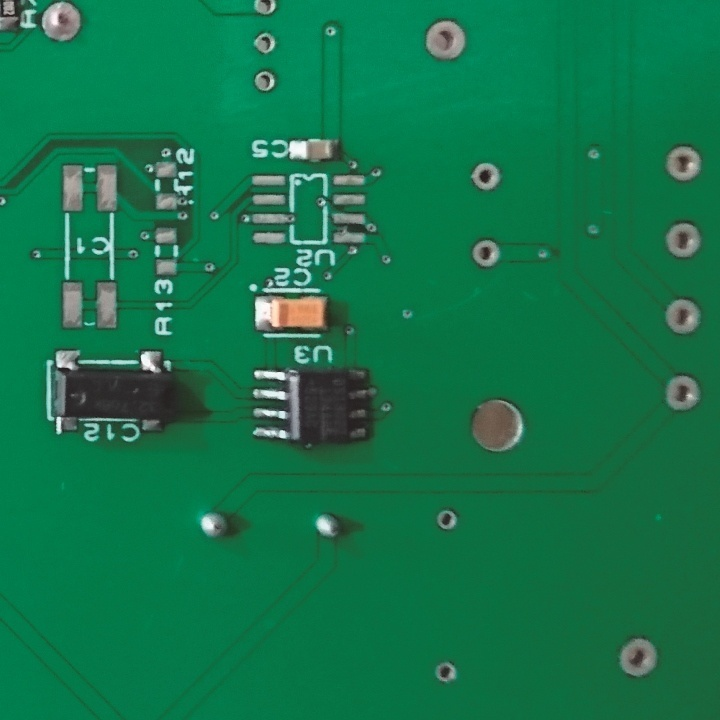F: (424, 15, 473, 70), (37, 1, 84, 48), (613, 638, 662, 682), (660, 373, 703, 414), (660, 142, 704, 182), (664, 297, 705, 335), (663, 220, 702, 259), (467, 238, 504, 271), (467, 160, 503, 192), (431, 657, 462, 687), (250, 66, 281, 93), (431, 507, 459, 531), (250, 1, 282, 21), (253, 32, 279, 54)
